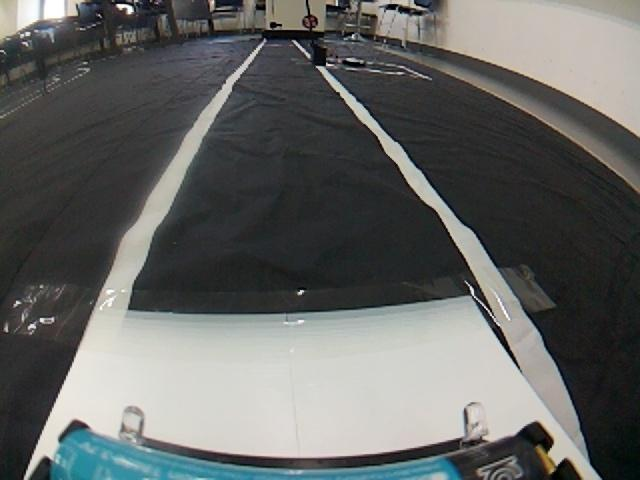hill_down: (43, 272, 606, 478)
sign_stop: (301, 10, 326, 31)
